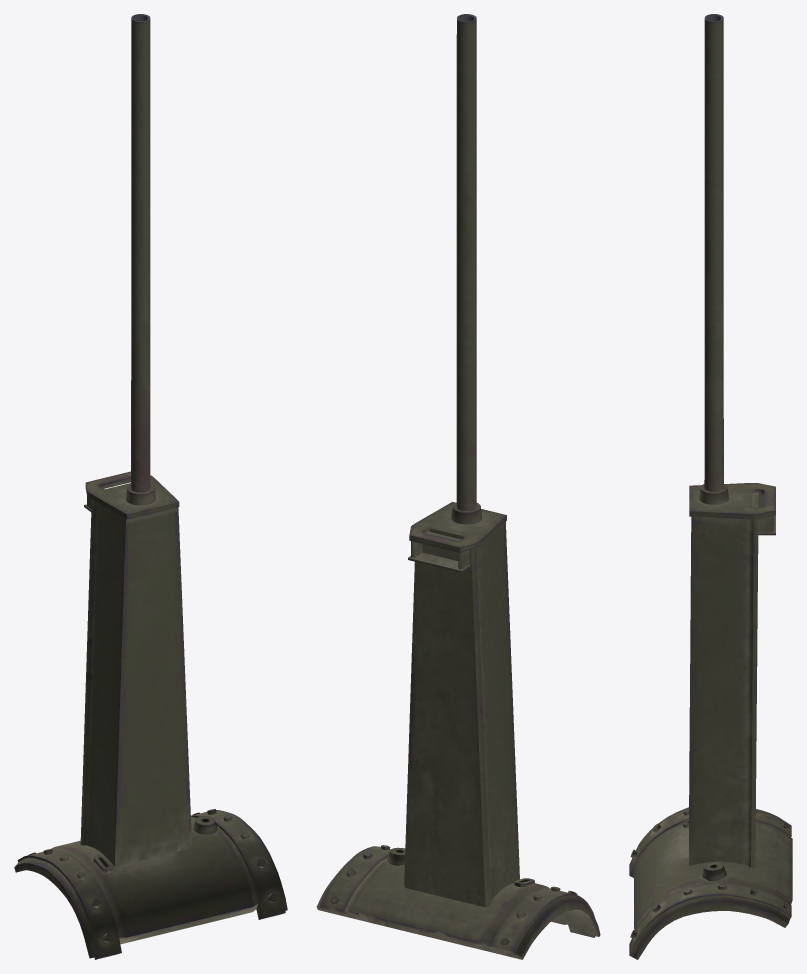
File: Gun_06.glb
3 views of the same model, side by side, from view 1: azimuth 30°, elevation 25°; view 2: azimuth 150°, elevation 25°; view 3: azimuth 270°, elevation 25° (orthographic). The views are drawn at different scales.
Parts seen in each view (by area): view 1: set_0_group_0; view 2: set_0_group_0; view 3: set_0_group_0.
Boxes of the visible parts, bbox=[...] form: set_0_group_0: bbox=[14, 14, 287, 959]; set_0_group_0: bbox=[316, 14, 600, 959]; set_0_group_0: bbox=[629, 14, 792, 959].
Size of the model in its own units: 0.5861 by 2.54 by 0.4212.
Materials: 1 (1 with a texture image).
